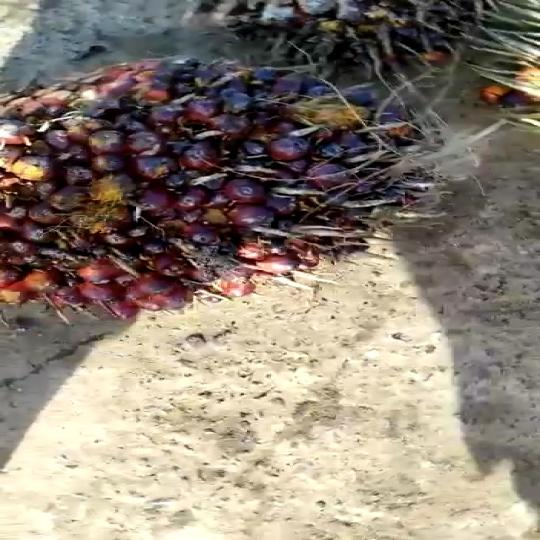masak: (0, 36, 449, 323)
